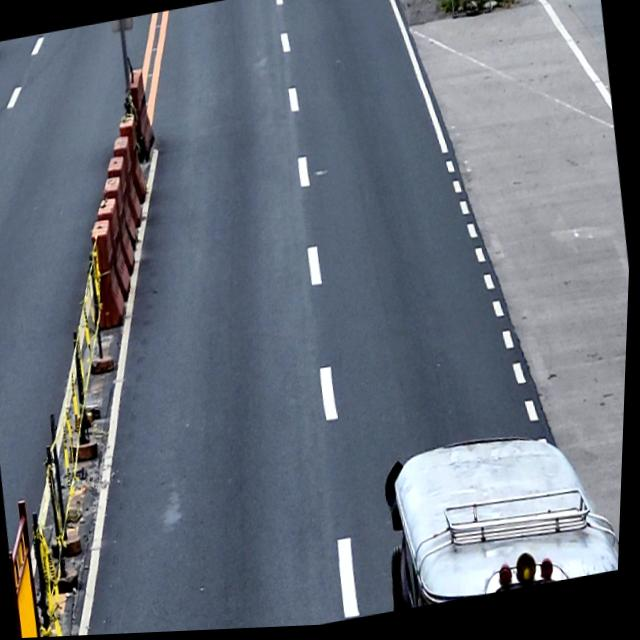Jeep: (378, 421, 627, 615)
